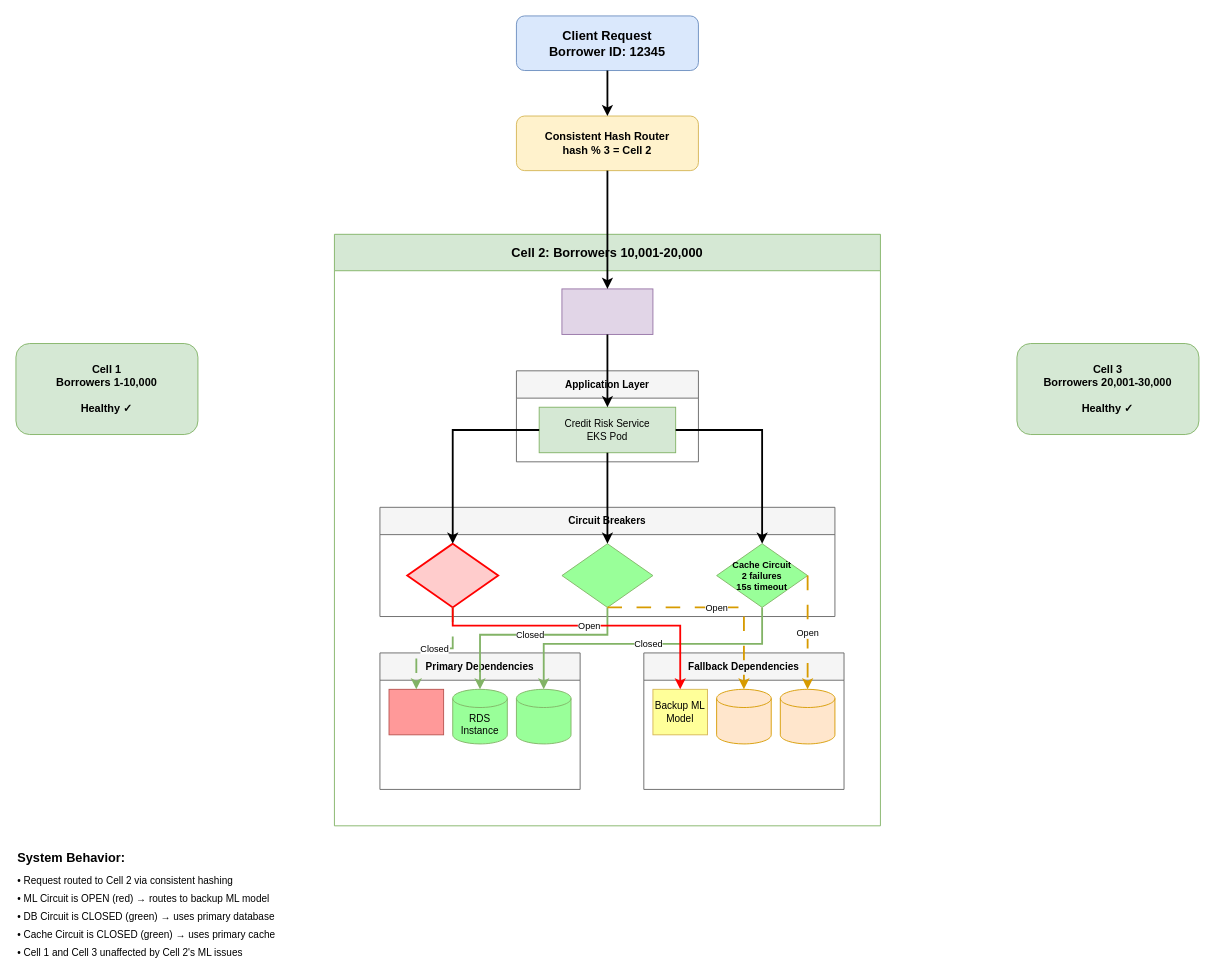
This 1215x978 diagram has some shape labels left out. The shapes that lost their labels are listed below. From the top down, each one's centre as x and y in pixels, then its label:
point 607,311: Load Balancer
point 452,575: ML Circuit 3 failures 30s timeout
point 607,575: DB Circuit 5 failures 60s timeout
point 416,711: SageMaker Endpoint
point 543,716: ElastiCache Cluster
point 743,716: Read Replica
point 807,716: Direct DB No Cache
